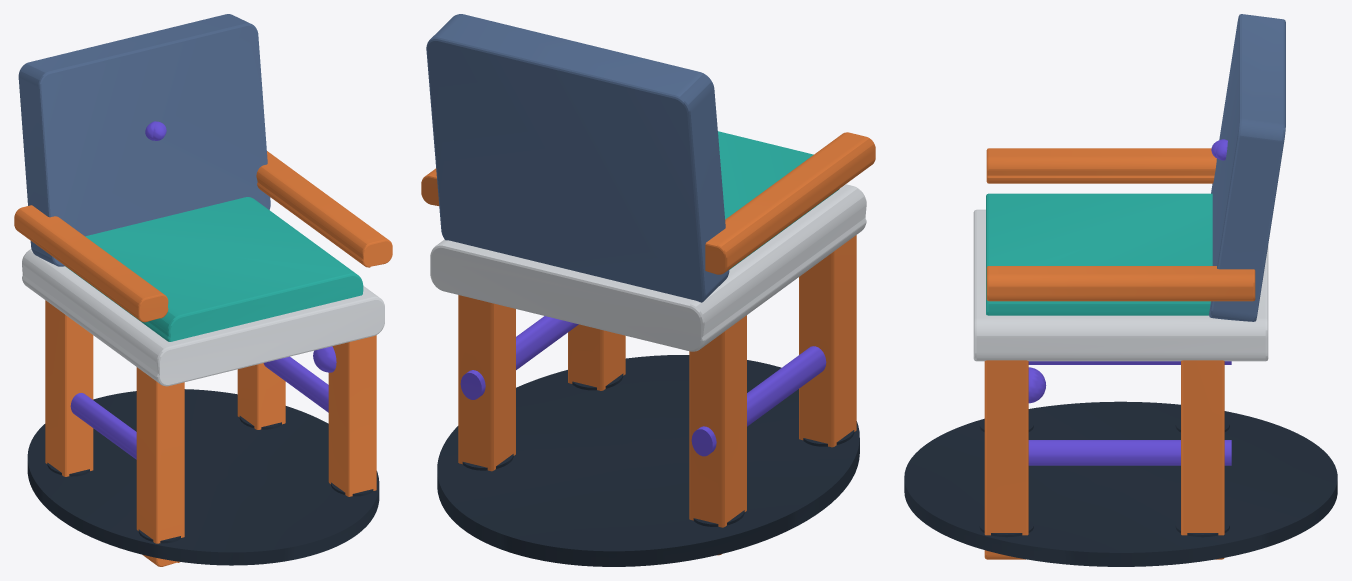
The model's file is 1352_城市运转图鉴_盲道.glb.
3 views of the same model, side by side, from view 1: azimuth 30°, elevation 25°; view 2: azimuth 150°, elevation 25°; view 3: azimuth 270°, elevation 25° (orthographic). The views are drawn at different scales.
Parts seen in each view (by area): view 1: card_1352; view 2: card_1352; view 3: card_1352.
Boxes of the visible parts, left/top/right/bottom form: card_1352: left=14, top=14, right=392, bottom=566; card_1352: left=421, top=14, right=875, bottom=566; card_1352: left=904, top=14, right=1337, bottom=566.
Bounding box in the file's own units: 0.7409 × 1 × 0.8974.
